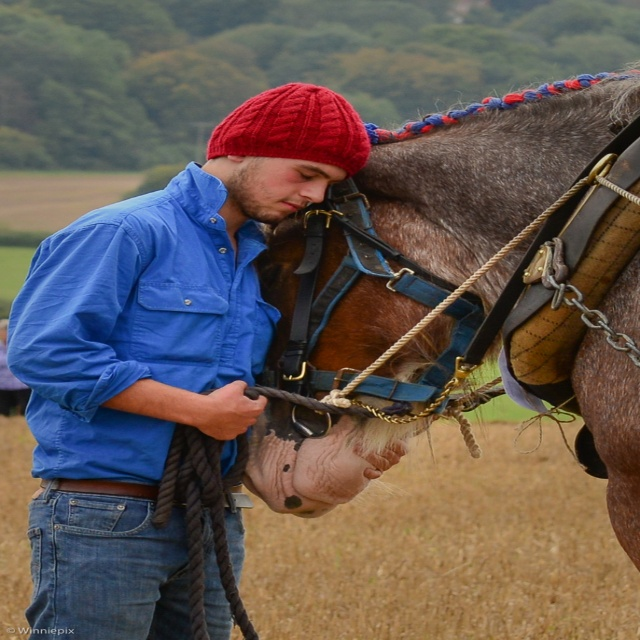Horse: (239, 64, 640, 572)
